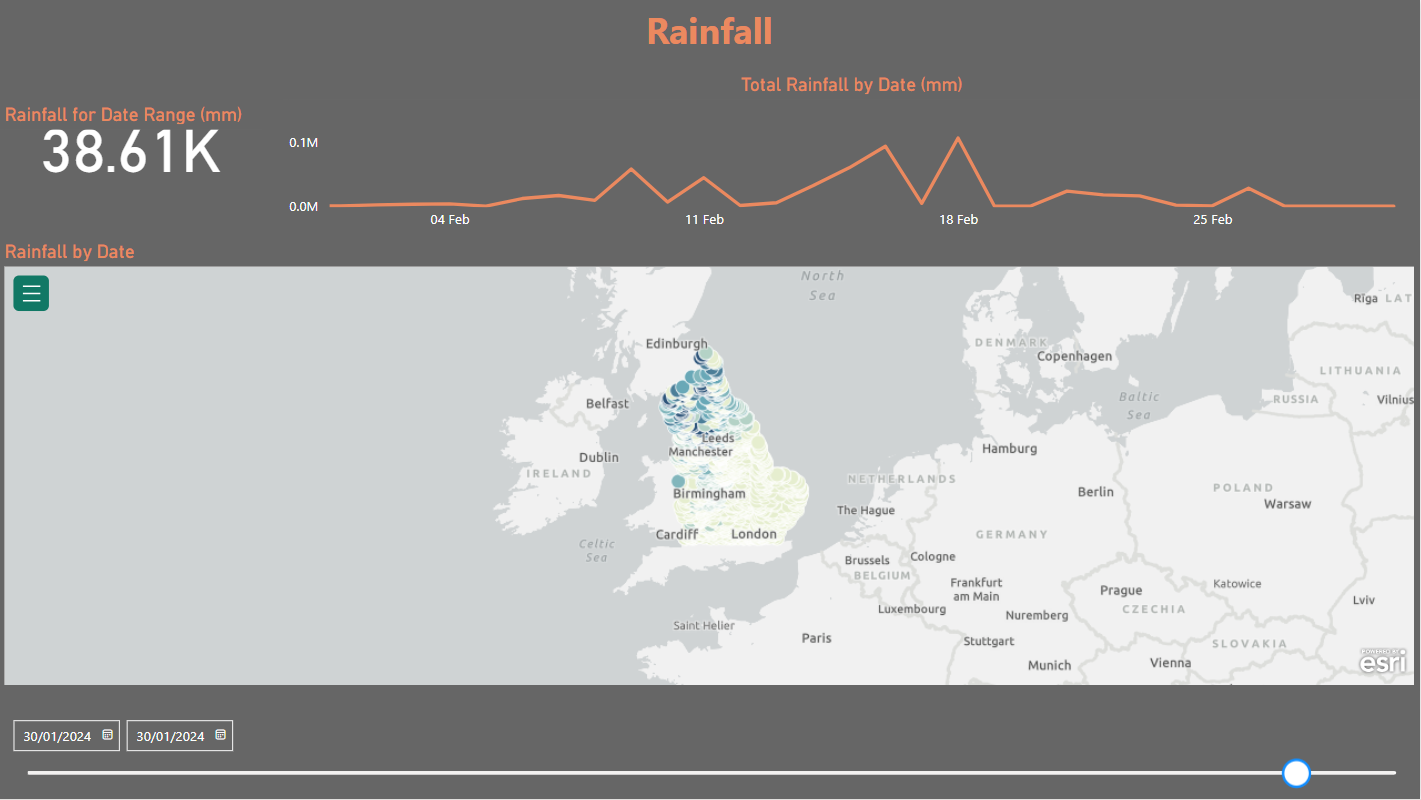

This screenshot's page, from the dashboard's own definition file:
{"tool":"powerbi","page":{"name":"Rainfall","canvas":[1280,720],"ordinal":1},"visuals":[{"type":"esriVisual","title":"Rainfall by Date","fields":{"Latitude":["vw_ml_training_flood_short.flood_area_latitude"],"Longitude":["vw_ml_training_flood_short.flood_area_longitude"],"Color":["vw_ml_training_flood_short.rainfall"]},"box":[0,216,1280,406],"z":0},{"type":"slicer","fields":{"Values":["vw_ml_training_flood_short.date"]},"box":[0,638.5,1280,81.4],"z":1000},{"type":"textbox","box":[0,0,1280,56],"z":1001},{"type":"lineChart","title":"Total Rainfall by Date (mm)","fields":{"Category":["vw_ml_training_flood_short.date"],"Y":["Sum(vw_ml_training_flood_short.rainfall)"]},"box":[256,66,1024,150],"z":1002},{"type":"card","title":"Rainfall for Date Range (mm)","fields":{"Values":["Sum(vw_ml_training_flood_short.rainfall)"]},"box":[0,93,237,75],"z":1003}]}

Visuals, with their boxes in screenshot pixels (x1, y1, x2, y2), scaled from the page's 1280x720 canvas onto the 1421x800 screenshot:
"Rainfall by Date" esriVisual: <region>0, 240, 1420, 691</region>
slicer - vw_ml_training_flood_short.date: <region>0, 709, 1420, 799</region>
textbox: <region>0, 0, 1420, 62</region>
"Total Rainfall by Date (mm)" lineChart: <region>284, 73, 1420, 240</region>
"Rainfall for Date Range (mm)" card: <region>0, 103, 263, 187</region>
